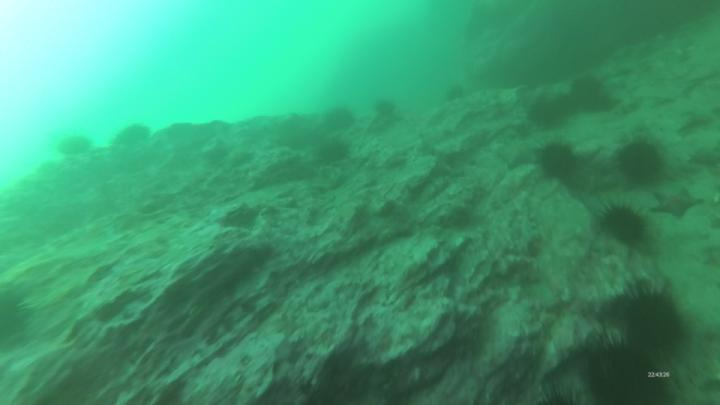echinus: (579, 335, 668, 405), (611, 279, 689, 353), (593, 196, 652, 251), (613, 136, 667, 188), (1, 287, 36, 349), (535, 138, 580, 185), (525, 382, 592, 405), (524, 95, 564, 132), (567, 74, 606, 111), (111, 121, 153, 151), (315, 137, 352, 167), (55, 135, 96, 161), (324, 104, 358, 131), (369, 96, 400, 119), (444, 84, 467, 105)
starfish: (648, 187, 707, 223)
